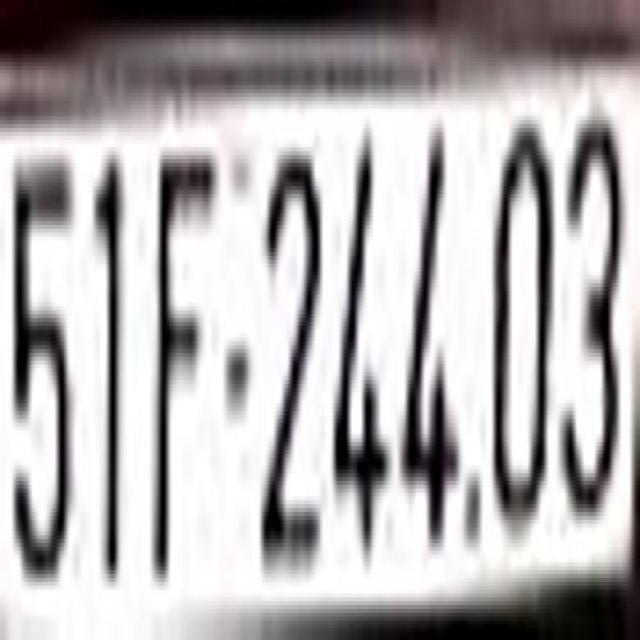0: (493, 128, 549, 512)
1: (92, 140, 119, 574)
2: (263, 155, 317, 543)
3: (568, 109, 620, 504)
4: (405, 128, 454, 559), (341, 132, 383, 531)
5: (11, 159, 69, 566)
F: (152, 155, 212, 559)
